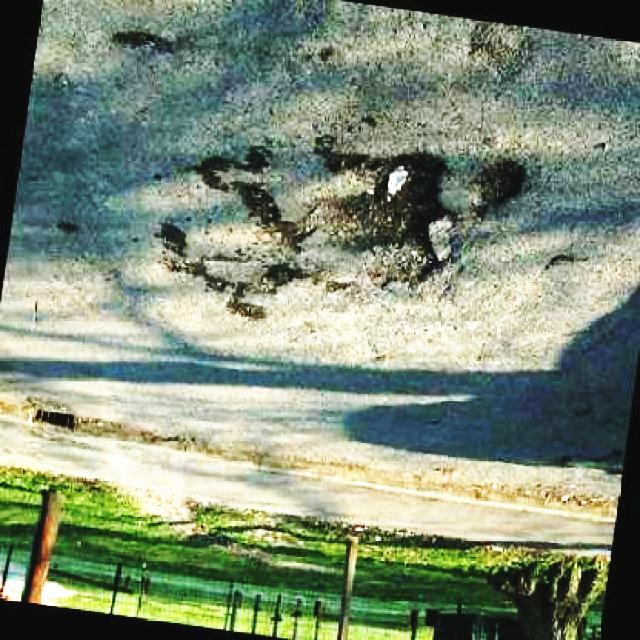pothole: (318, 137, 460, 292), (462, 149, 528, 225)
